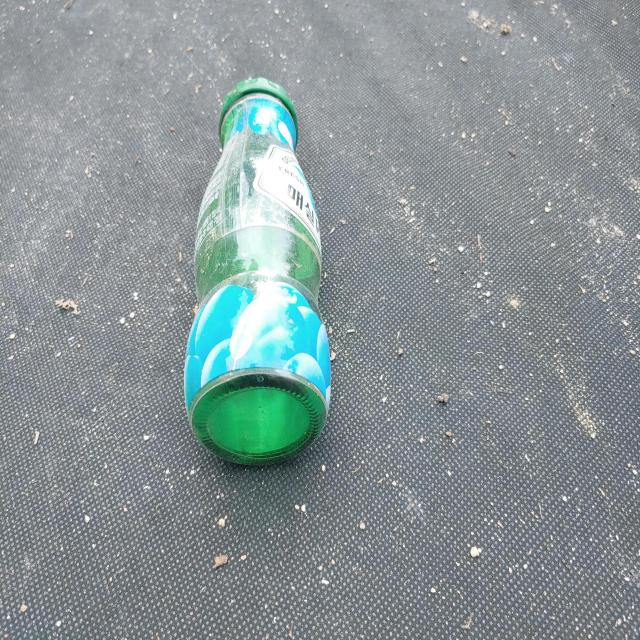glass: (184, 77, 331, 465)
